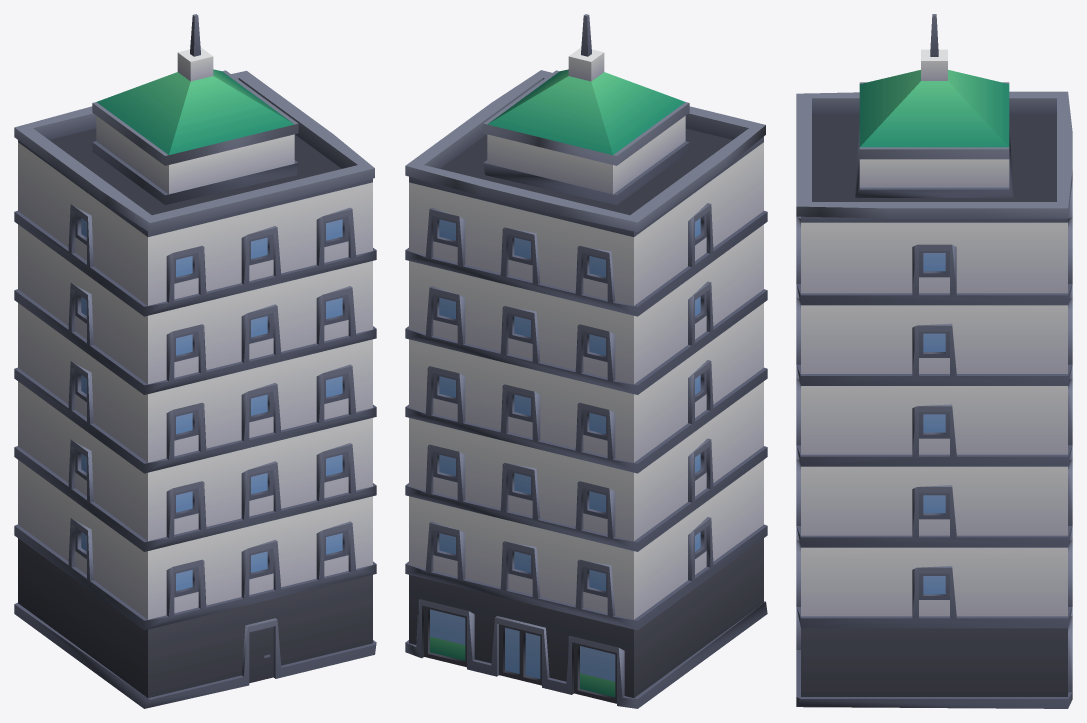
File: building-m.lod1.glb
3 views of the same model, side by side, from view 1: azimuth 30°, elevation 25°; view 2: azimuth 150°, elevation 25°; view 3: azimuth 270°, elevation 25° (orthographic). The views are drawn at different scales.
Parts seen in each view (by area): view 1: building-m; view 2: building-m; view 3: building-m.
Part boxes in pixels (box(x1,y1,x2,y2)): building-m: box(14, 14, 376, 708); building-m: box(405, 14, 767, 708); building-m: box(796, 14, 1072, 708).
Size of the model in its own units: 12.4 by 31.5 by 12.4.
Materials: 1 (1 with a texture image).
